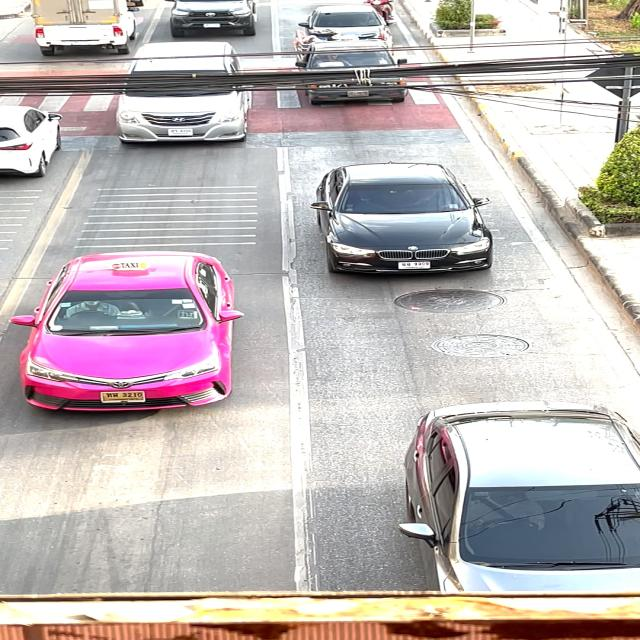car: (381, 394, 640, 593), (1, 247, 252, 420), (306, 160, 504, 280), (114, 40, 257, 149), (290, 41, 430, 108), (289, 0, 406, 47), (151, 0, 255, 39)
